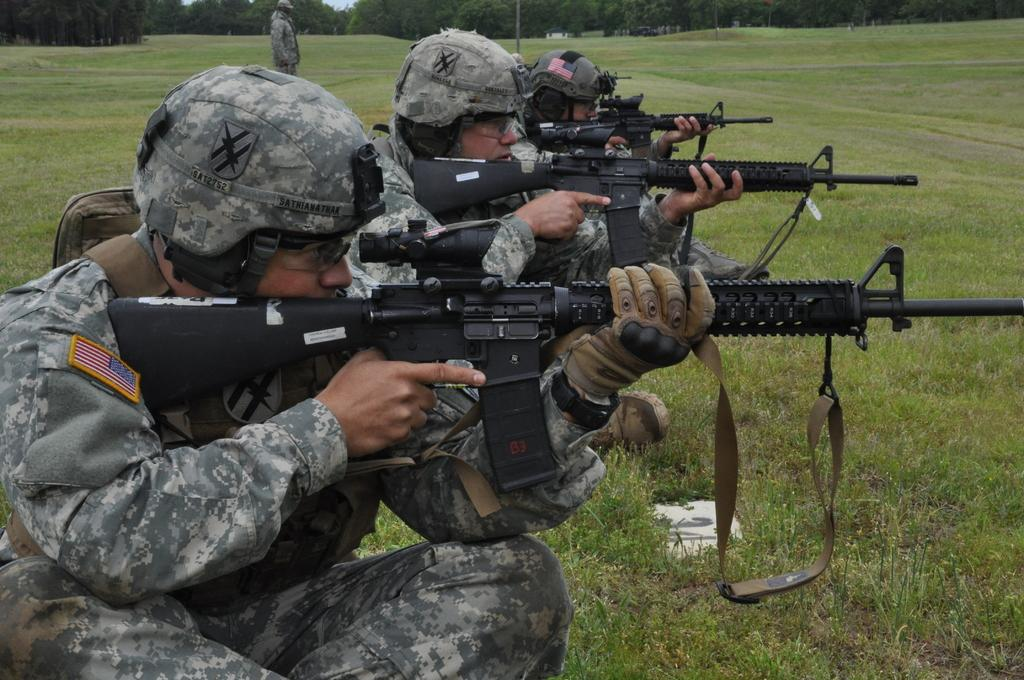Rifle: (103, 221, 1023, 487), (401, 136, 925, 271), (531, 85, 778, 147)
